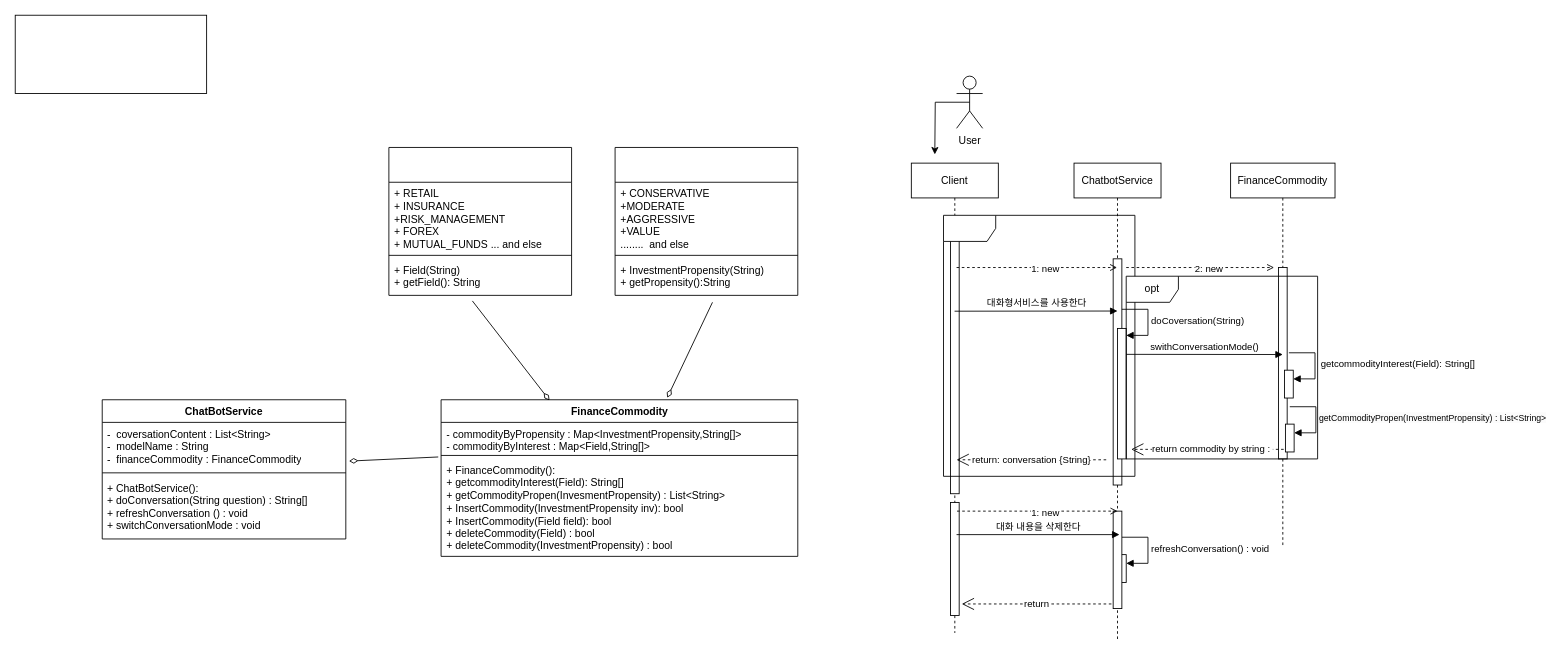
This 1562x657 diagram has some shape labels left out. Here are the shapes that lost their labels. From the top down, the box of each, then its label:
(14, 14, 207, 94): 대화형서비스(금융상품 추천)
(388, 147, 572, 295): <<Enum>> Field
(614, 147, 798, 295): <<Enum>> InvestmentPropensity
(943, 214, 1135, 476): loop
